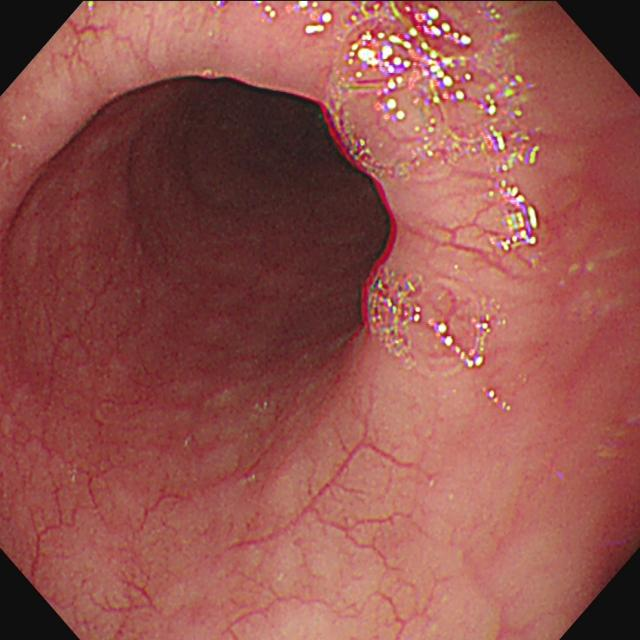T: (329, 2, 510, 181)
U: (348, 32, 413, 122), (417, 8, 475, 105), (487, 181, 541, 253), (429, 318, 492, 368)
